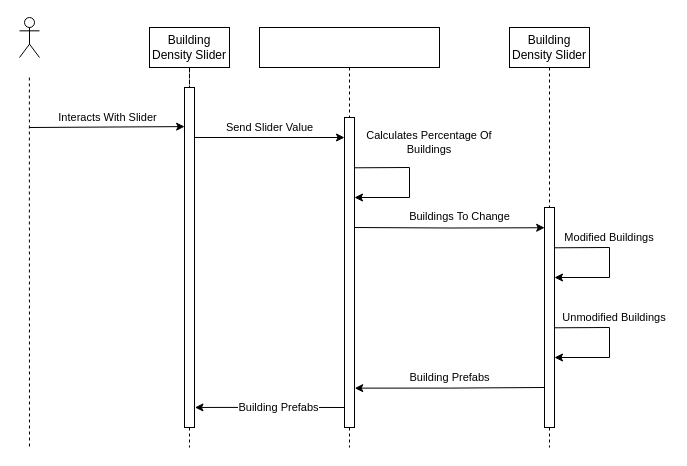
Image size: 687x466. Some labels were removed from this diagram. The shapes that lost their labels are listed below. From the top down, each one's centre as x and y in pixels, then its label:
At point 29,37: "User".
At point 349,47: "BuildingDictionary2ListAttempt".
